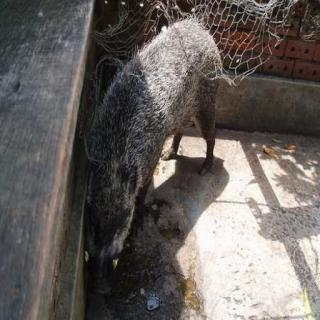Pig: (66, 11, 250, 264)
